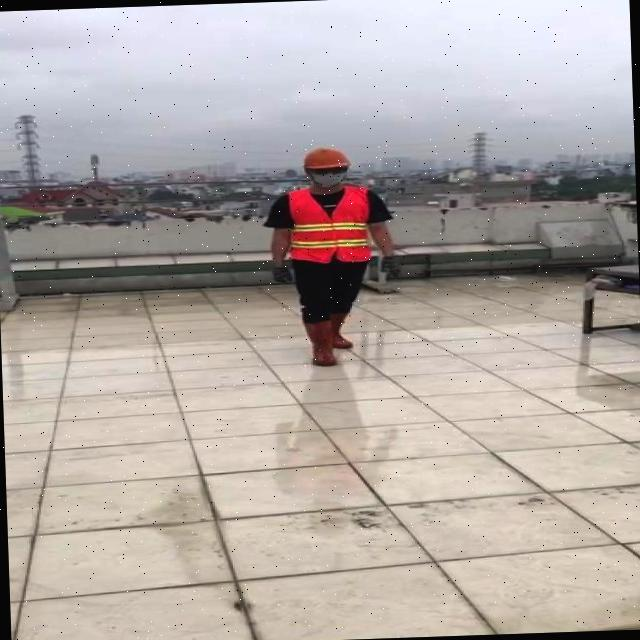boots: (302, 316, 338, 366), (329, 308, 358, 348)
helmet: (296, 146, 356, 170)
vest: (287, 186, 369, 262)
